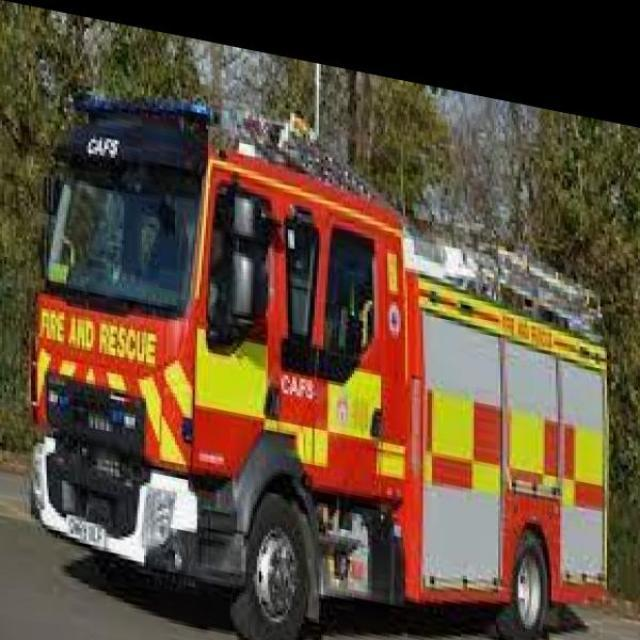emergency: (26, 90, 612, 638)
